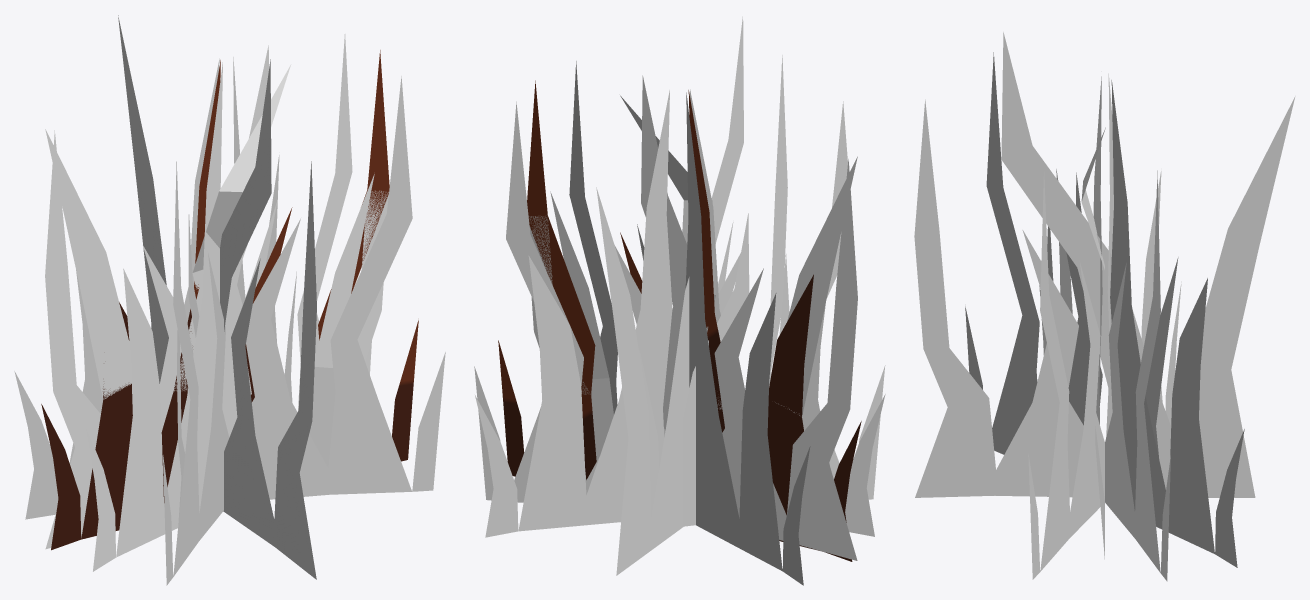
File: Forest_Grass.fbx
3 views of the same model, side by side, from view 1: azimuth 30°, elevation 25°; view 2: azimuth 150°, elevation 25°; view 3: azimuth 270°, elevation 25° (orthographic). The views are drawn at different scales.
Visible parts, largest first — view 1: Grass_v01, Grass_v05, Grass_v03, Grass_v04; view 2: Grass_v01, Grass_v05, Grass_v03, Grass_v04; view 3: Grass_v01, Grass_v05.
Part boxes in pixels (x1,y1,x2,y2): Grass_v01: (14, 34, 445, 585); Grass_v05: (45, 15, 374, 579); Grass_v03: (41, 50, 418, 550); Grass_v04: (45, 45, 388, 399); Grass_v01: (474, 61, 885, 585); Grass_v05: (550, 16, 857, 575); Grass_v03: (498, 80, 861, 561); Grass_v04: (529, 75, 857, 416); Grass_v01: (965, 52, 1244, 581); Grass_v05: (914, 32, 1295, 559).
Size of the model in its own units: 0.4076 by 0.5052 by 0.3721.
